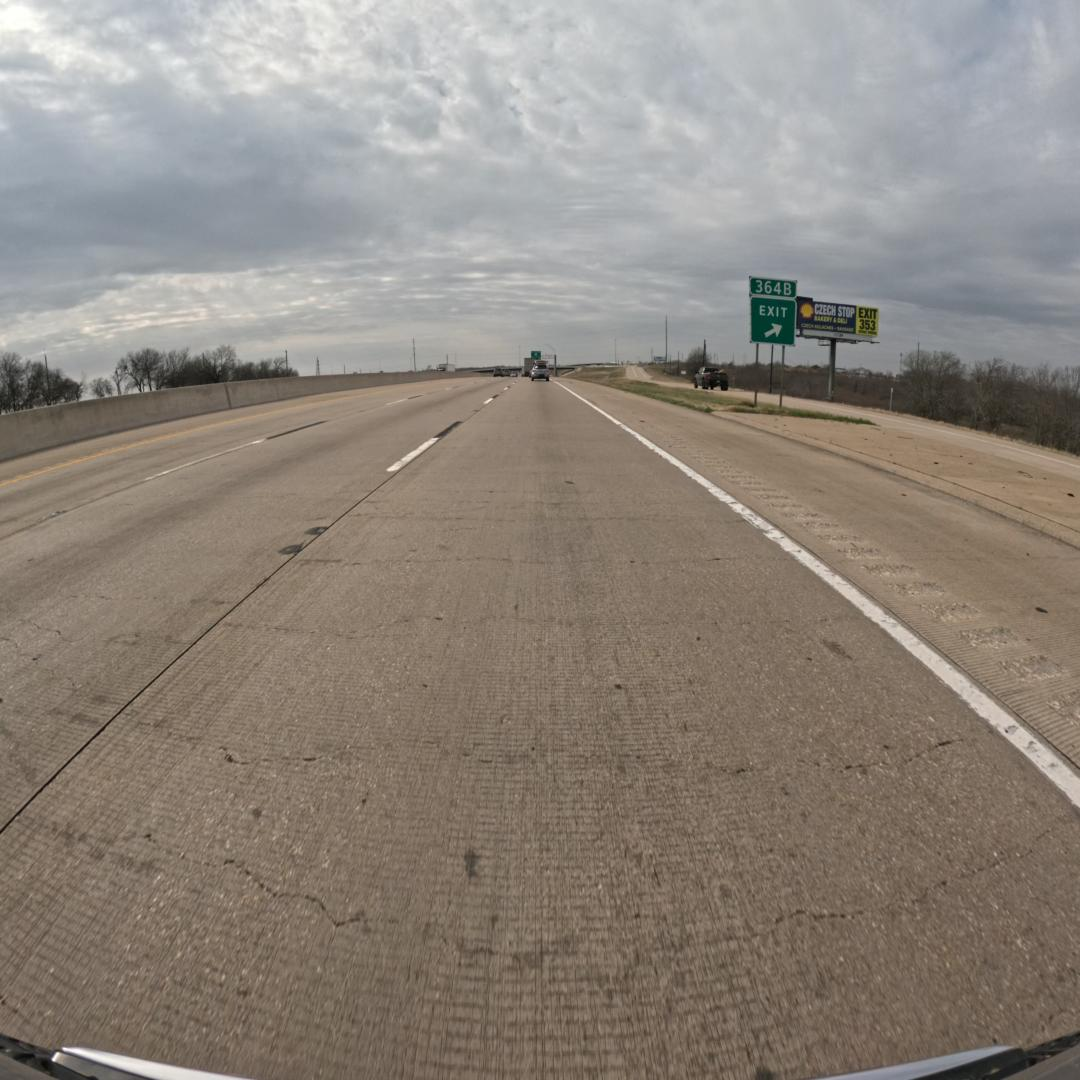lane0: (0, 385, 1080, 1077)
lane1: (0, 386, 493, 831)
